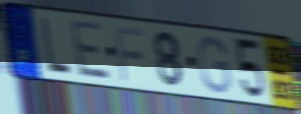5: (230, 34, 267, 101)
8: (153, 29, 185, 89)
E: (68, 19, 114, 82)
F: (112, 24, 146, 83)
G: (196, 34, 233, 95)
L: (38, 14, 74, 77)
